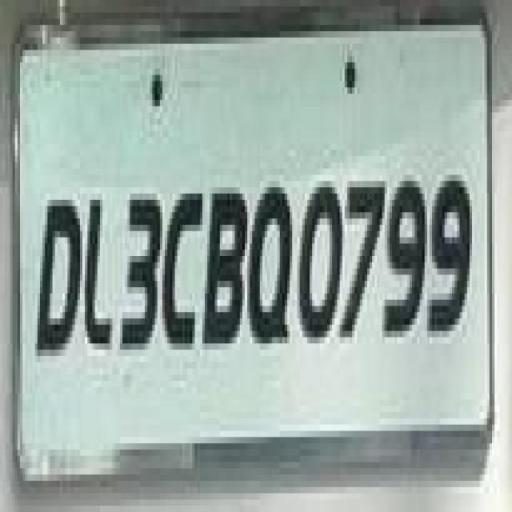number plate: (0, 18, 497, 449)
